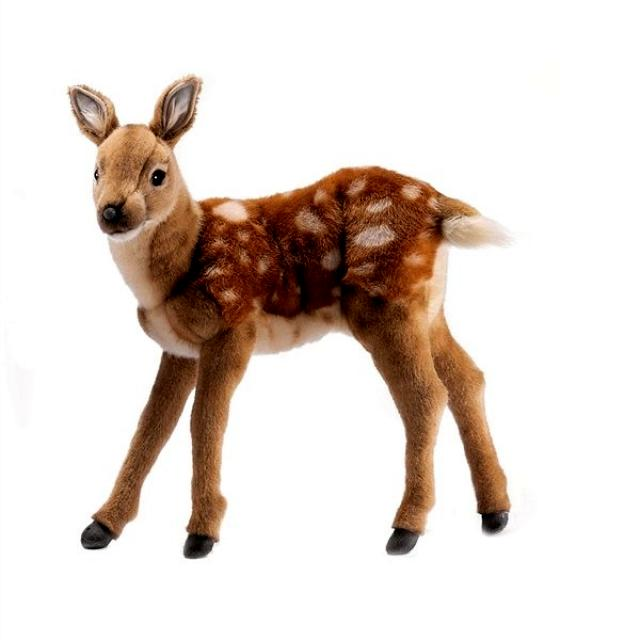deer: (62, 76, 548, 560)
